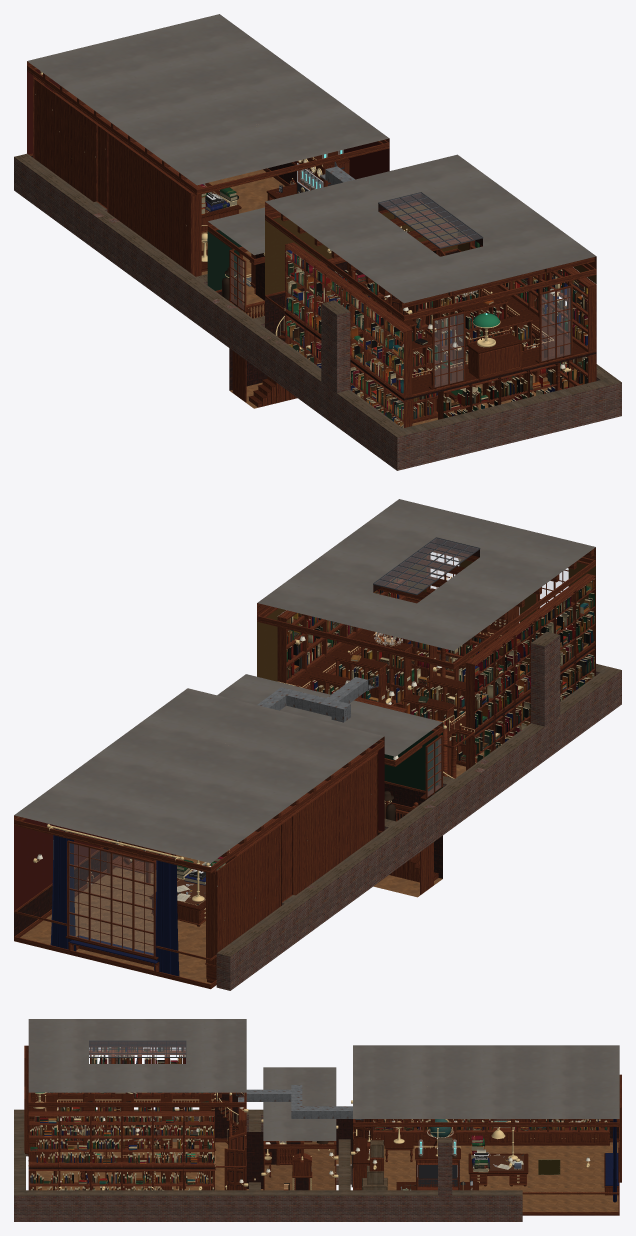
Rendered from study.glb.
The picture shows the model from 3 angles, top to bottom: view 1: azimuth 30°, elevation 25°; view 2: azimuth 150°, elevation 25°; view 3: azimuth 270°, elevation 25°; orthographic projection. The views are drawn at different scales.
Visible parts, largest first — view 1: plaster__lm2__study, brick__lm6__hidden, plaster__lm5__library, walnut__lm1__study, books__lm4__library, walnut__lm4__library, walnut__lm5__library, lath__lm6__hidden, glass_window__library, walnut_top__lm5__library, walnut__lm2__study, wallpaper_lib__lm5__library (+12 smaller); view 2: plaster__lm2__study, plaster__lm5__library, brick__lm6__hidden, walnut__lm1__study, books__lm4__library, walnut__lm4__library, walnut__lm5__library, parquet__lm2__study, glass_window__study, lath__lm6__hidden, velvet__lm0__study, walnut__lm2__study (+16 smaller); view 3: plaster__lm2__study, brick__lm6__hidden, plaster__lm5__library, books__lm4__library, walnut__lm4__library, parquet__lm2__study, walnut__lm5__library, lath__lm6__hidden, plaster__lm3__hall, walnut__lm1__study, walnut__lm2__study, walnut_top__lm5__library (+23 smaller).
Part boxes in pixels (x1,y1,x2,y2): plaster__lm2__study: [27, 14, 389, 185]; brick__lm6__hidden: [14, 157, 621, 470]; plaster__lm5__library: [265, 154, 596, 303]; walnut__lm1__study: [33, 73, 202, 276]; books__lm4__library: [285, 241, 587, 428]; walnut__lm4__library: [285, 241, 596, 427]; walnut__lm5__library: [265, 201, 596, 416]; lath__lm6__hidden: [14, 153, 621, 437]; glass_window__library: [380, 193, 570, 386]; walnut_top__lm5__library: [278, 285, 593, 398]; walnut__lm2__study: [27, 61, 389, 294]; wallpaper_lib__lm5__library: [265, 204, 596, 295]; plaster__lm2__study: [14, 688, 384, 863]; plaster__lm5__library: [257, 499, 595, 650]; brick__lm6__hidden: [91, 635, 621, 990]; walnut__lm1__study: [205, 748, 378, 983]; books__lm4__library: [286, 577, 595, 763]; walnut__lm4__library: [277, 568, 595, 770]; walnut__lm5__library: [257, 546, 595, 778]; parquet__lm2__study: [16, 855, 215, 989]; glass_window__study: [69, 843, 153, 955]; lath__lm6__hidden: [217, 631, 621, 956]; velvet__lm0__study: [50, 829, 179, 976]; walnut__lm2__study: [14, 736, 384, 988]; plaster__lm2__study: [353, 1045, 619, 1118]; brick__lm6__hidden: [14, 1055, 522, 1221]; plaster__lm5__library: [28, 1019, 246, 1092]; books__lm4__library: [28, 1047, 214, 1190]; walnut__lm4__library: [28, 1047, 246, 1190]; parquet__lm2__study: [384, 1142, 618, 1211]; walnut__lm5__library: [24, 1045, 246, 1190]; lath__lm6__hidden: [14, 1048, 522, 1195]; plaster__lm3__hall: [263, 1067, 336, 1140]; walnut__lm1__study: [373, 1119, 609, 1145]; walnut__lm2__study: [353, 1119, 619, 1215]; walnut_top__lm5__library: [25, 1093, 238, 1167].
Bounding box in the file's own units: 84.1 × 80 × 251.
Materials: 131 (71 with a texture image).
